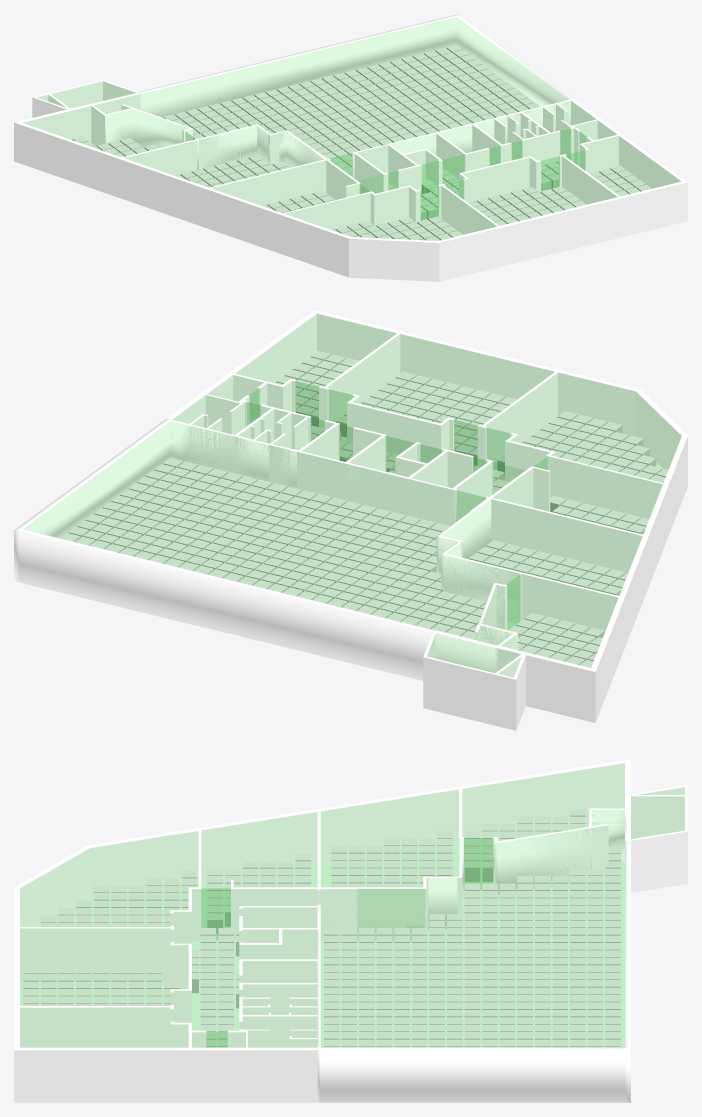
The model's file is oldscene.gltf.
3 views of the same model, one above another, from view 1: azimuth 30°, elevation 25°; view 2: azimuth 150°, elevation 25°; view 3: azimuth 270°, elevation 25° (orthographic). The views are drawn at different scales.
Visible parts, largest first — view 1: patio_dec, patio_f, laboratorio_1_f, aula_8_f, laboratorio_2_f, laboratorio_1_dec, laboratorio_2_dec, pasillo_dec, laboratorio_3_f, aula_8_dec, aula_6_f, electronica_f (+17 smaller); view 2: patio_dec, patio_f, laboratorio_1_f, laboratorio_2_dec, laboratorio_1_dec, laboratorio_2_f, electronica_f, aula_8_dec, pasillo_dec, aula_8_f, electronica_dec, aula_6_f (+17 smaller); view 3: patio_dec, patio_f, laboratorio_1_f, aula_6_f, laboratorio_1_dec, laboratorio_2_dec, electronica_f, aula_8_f, aula_8_dec, pasillo_dec, laboratorio_3_dec, electronica_dec (+17 smaller).
Boxes of the visible parts, bbox=[...] form: patio_dec: bbox=[95, 17, 568, 158]; patio_f: bbox=[92, 14, 573, 178]; laboratorio_1_f: bbox=[280, 183, 501, 281]; aula_8_f: bbox=[117, 124, 328, 228]; laboratorio_2_f: bbox=[438, 156, 622, 266]; laboratorio_1_dec: bbox=[287, 186, 495, 240]; laboratorio_2_dec: bbox=[444, 157, 616, 225]; pasillo_dec: bbox=[330, 129, 589, 219]; laboratorio_3_f: bbox=[209, 158, 371, 253]; aula_8_dec: bbox=[125, 126, 323, 186]; aula_6_f: bbox=[559, 133, 687, 237]; electronica_f: bbox=[14, 104, 198, 197]; patio_dec: bbox=[24, 421, 519, 644]; patio_f: bbox=[14, 418, 522, 680]; laboratorio_1_f: bbox=[477, 370, 687, 534]; laboratorio_2_dec: bbox=[328, 335, 553, 457]; laboratorio_1_dec: bbox=[486, 373, 680, 482]; laboratorio_2_f: bbox=[319, 331, 558, 461]; electronica_f: bbox=[475, 572, 624, 722]; aula_8_dec: bbox=[442, 500, 641, 595]; pasillo_dec: bbox=[246, 381, 548, 496]; aula_8_f: bbox=[437, 496, 649, 648]; electronica_dec: bbox=[482, 575, 617, 667]; aula_6_f: bbox=[228, 310, 401, 420]; patio_dec: bbox=[320, 810, 624, 1047]; patio_f: bbox=[317, 808, 630, 1102]; laboratorio_1_f: bbox=[14, 828, 201, 980]; aula_6_f: bbox=[14, 1005, 206, 1102]; laboratorio_1_dec: bbox=[20, 831, 198, 926]; laboratorio_2_dec: bbox=[20, 929, 187, 1005]; electronica_f: bbox=[456, 759, 630, 888]; aula_8_f: bbox=[314, 787, 463, 941]; aula_8_dec: bbox=[321, 790, 458, 886]; pasillo_dec: bbox=[173, 888, 317, 1047]; laboratorio_3_dec: bbox=[201, 813, 317, 940]; electronica_dec: bbox=[463, 764, 624, 889].
Bounding box in the file's own units: 35.81 × 3.02 × 35.03.
